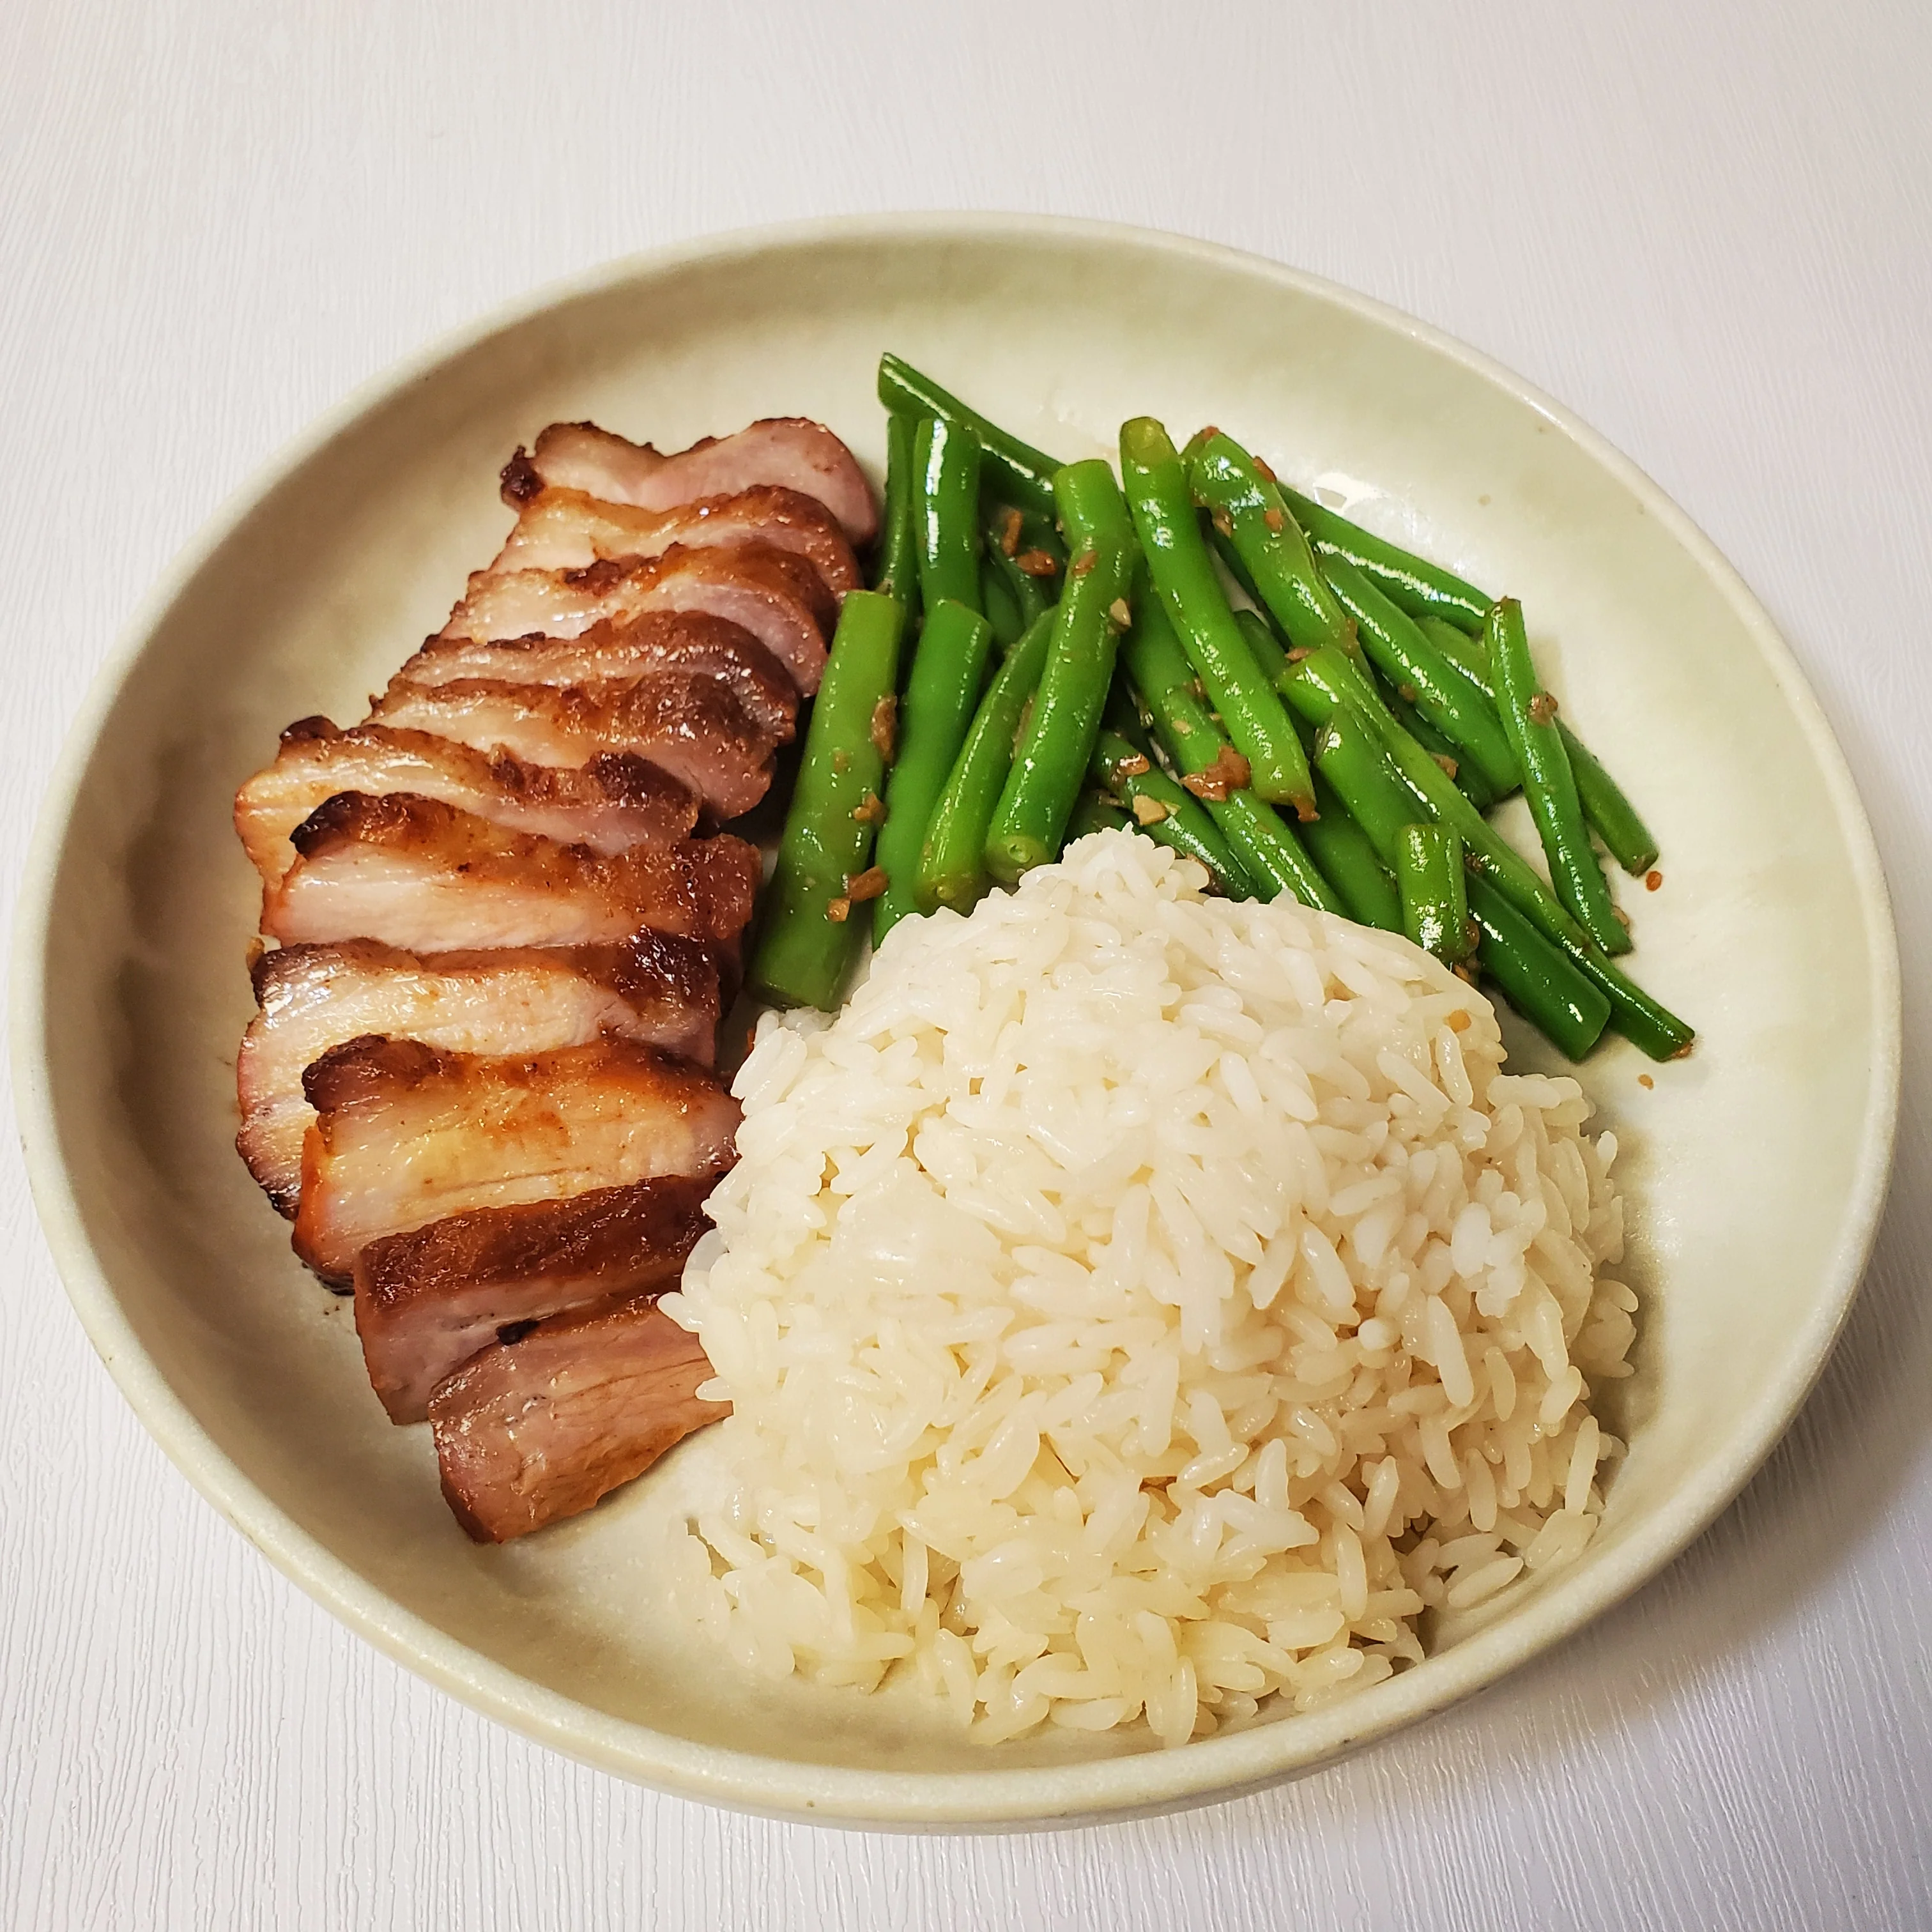char-siu: (251, 423, 881, 1541)
